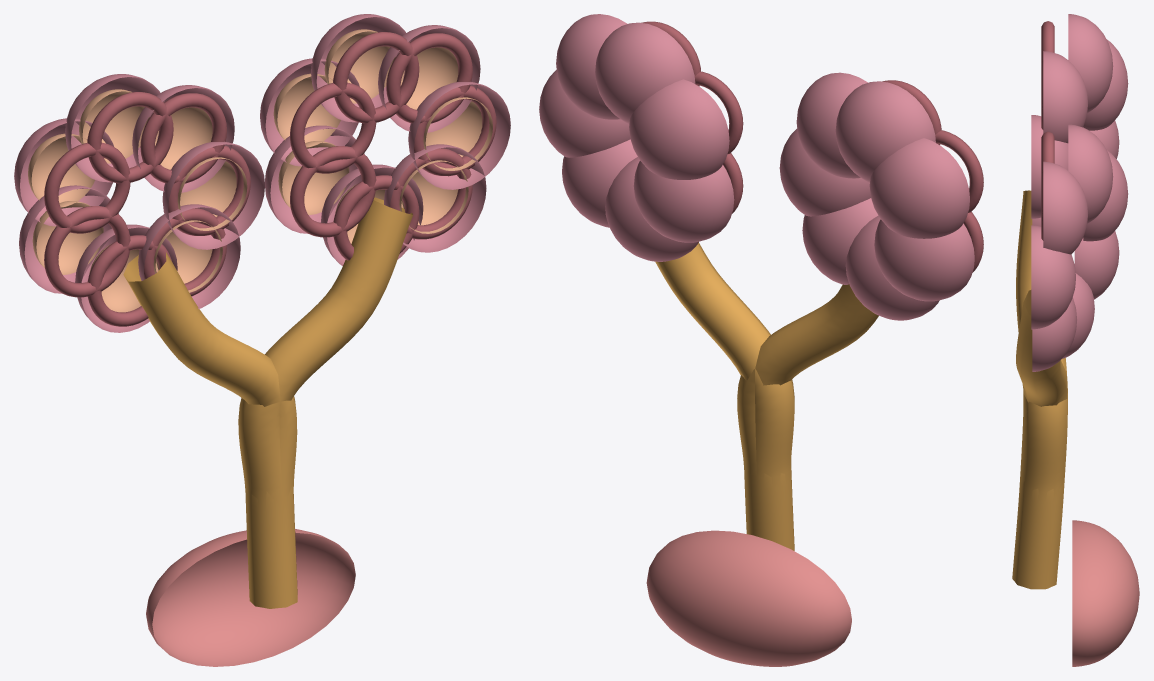
Rendered from lactating-unit.glb.
3 renders of one model, left to right at view 1: azimuth 30°, elevation 25°; view 2: azimuth 150°, elevation 25°; view 3: azimuth 270°, elevation 25°, orthographic. The views are drawn at different scales.
Visible parts, largest first — view 1: myoepithelial_cells, secretory_alveoli, lactiferous_duct, milk_in_lumina, nipple; view 2: secretory_alveoli, nipple, lactiferous_duct, myoepithelial_cells; view 3: secretory_alveoli, lactiferous_duct, nipple, myoepithelial_cells.
Boxes of the visible parts, x1,y1,x2,y2 form: myoepithelial_cells: (44, 32, 496, 326); secretory_alveoli: (14, 14, 510, 332); lactiferous_duct: (123, 197, 412, 608); milk_in_lumina: (28, 29, 492, 312); nipple: (146, 529, 355, 666); secretory_alveoli: (539, 14, 974, 320); nipple: (646, 530, 851, 666); lactiferous_duct: (655, 242, 878, 550); myoepithelial_cells: (641, 21, 983, 272); secretory_alveoli: (1031, 14, 1128, 371); lactiferous_duct: (1012, 190, 1067, 589); nipple: (1072, 520, 1139, 666); myoepithelial_cells: (1041, 21, 1054, 240).
Bounding box in the file's own units: 1.32 × 1.68 × 0.3408.
